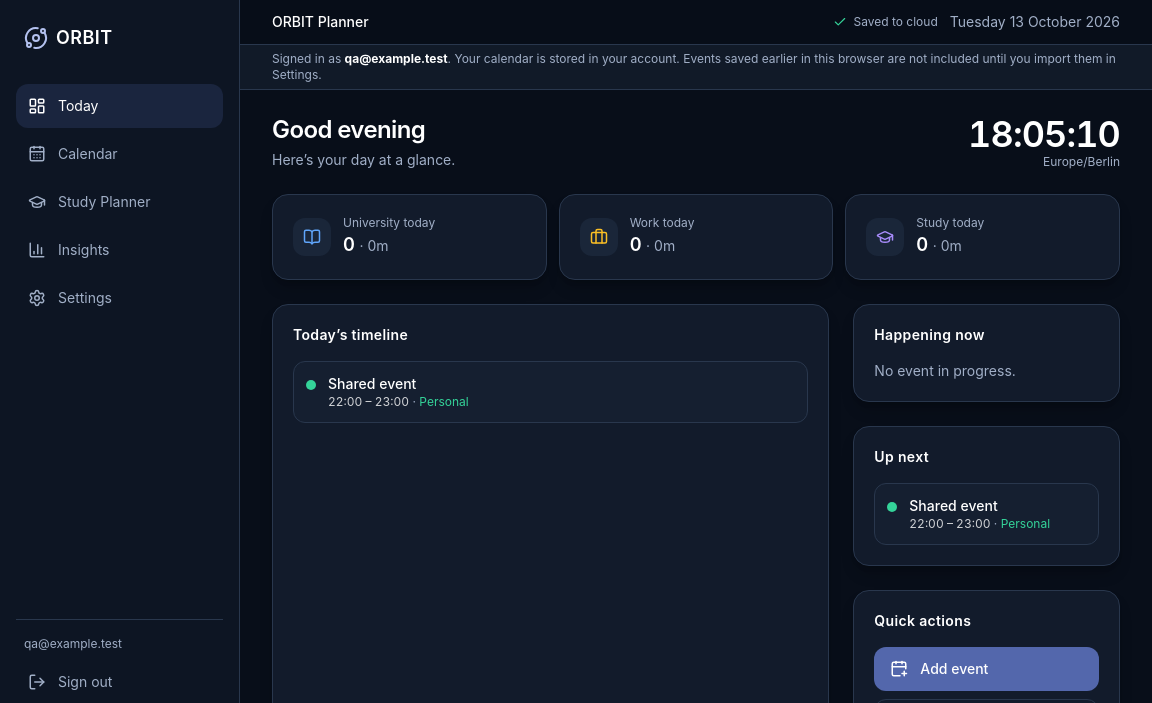
Scenario: cloud mode in the UI (mocked cloud) › a concurrent change on another device is rejected on save, with an explanation, and nothing is overwritten
Expected: the text "Shared event" below "Today’s timeline" is shown, 328,375 -> 416,392
Click the button "Shared event 22:00 – 23:00 · Personal" below "Today’s timeline" at [372, 384], box 293,361 -> 808,423
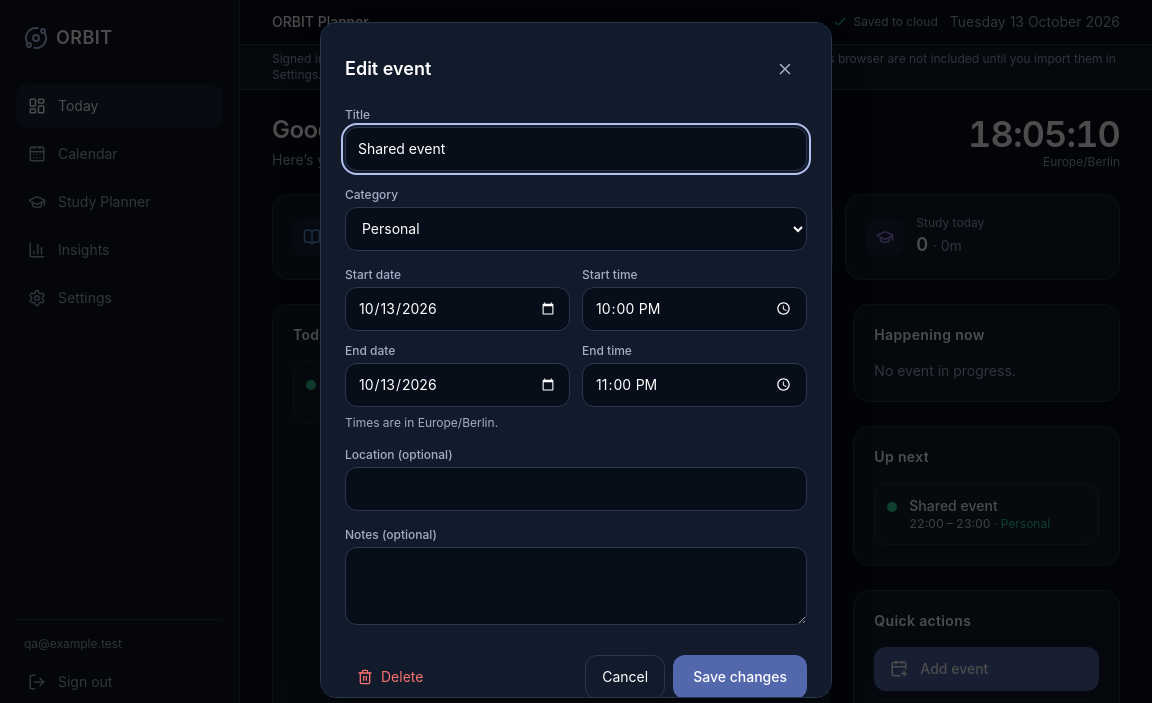
Replace the text in the field labelled "Title" with "Edited on the laptop" at [576, 149], box 345,127 -> 807,171
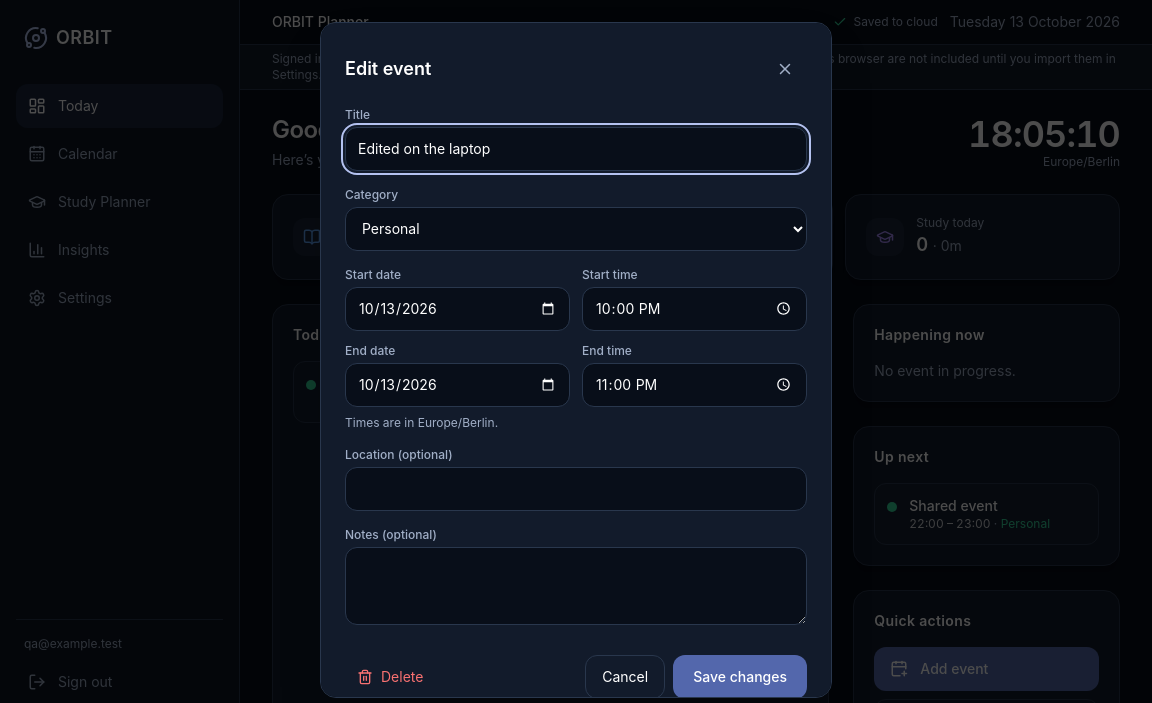
Click the button "Save changes" at [740, 677], box 673,655 -> 807,699
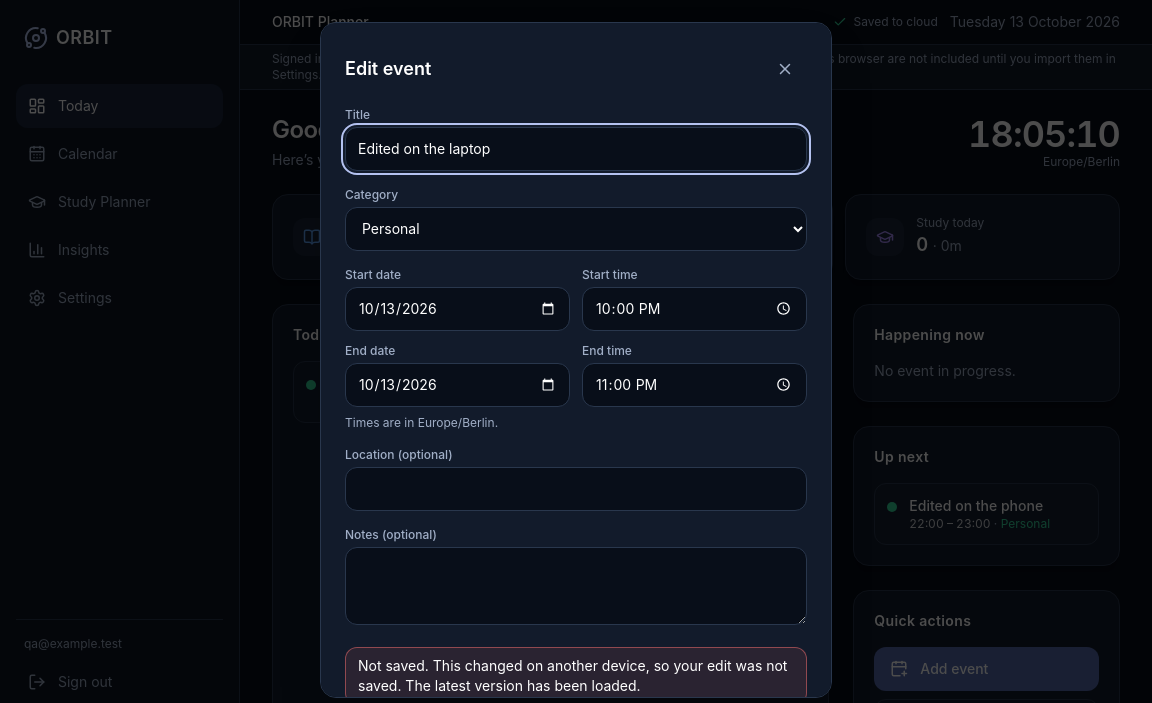
Expected: the text "Shared event" reads "Edited on the phone", 328,375 -> 462,392
Now the message with test id "save-error" shows "another device", box 358,657 -> 788,694
